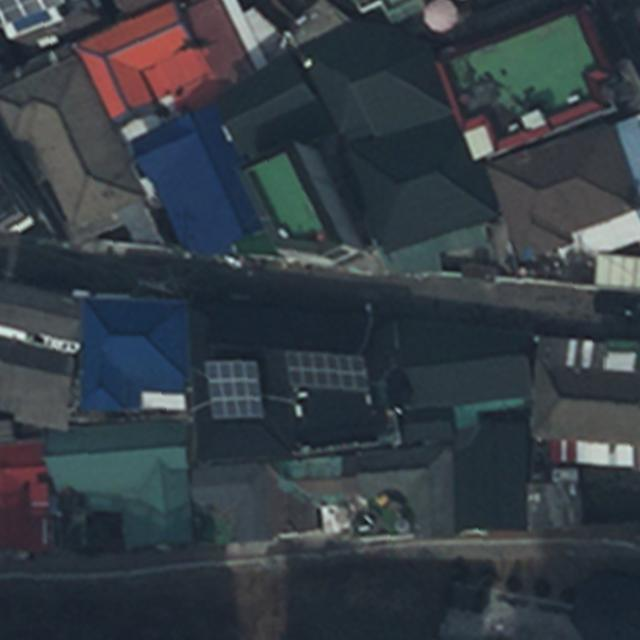panel: (202, 358, 264, 420), (283, 348, 370, 391)
